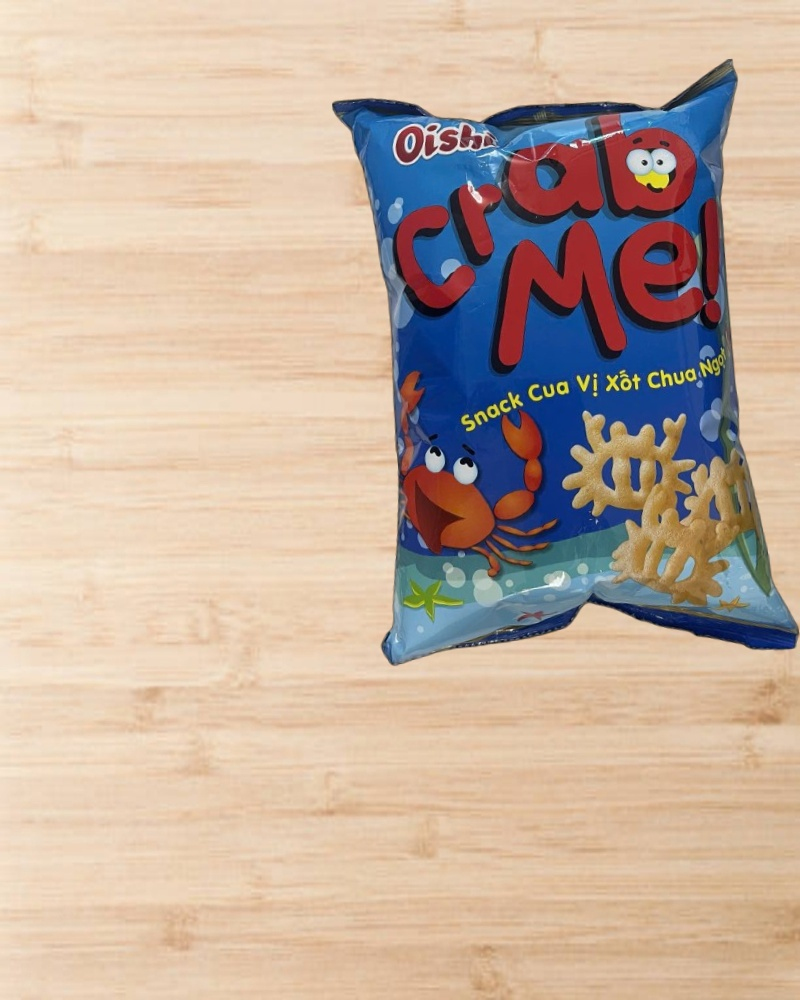Snack cua: (332, 58, 800, 679)
